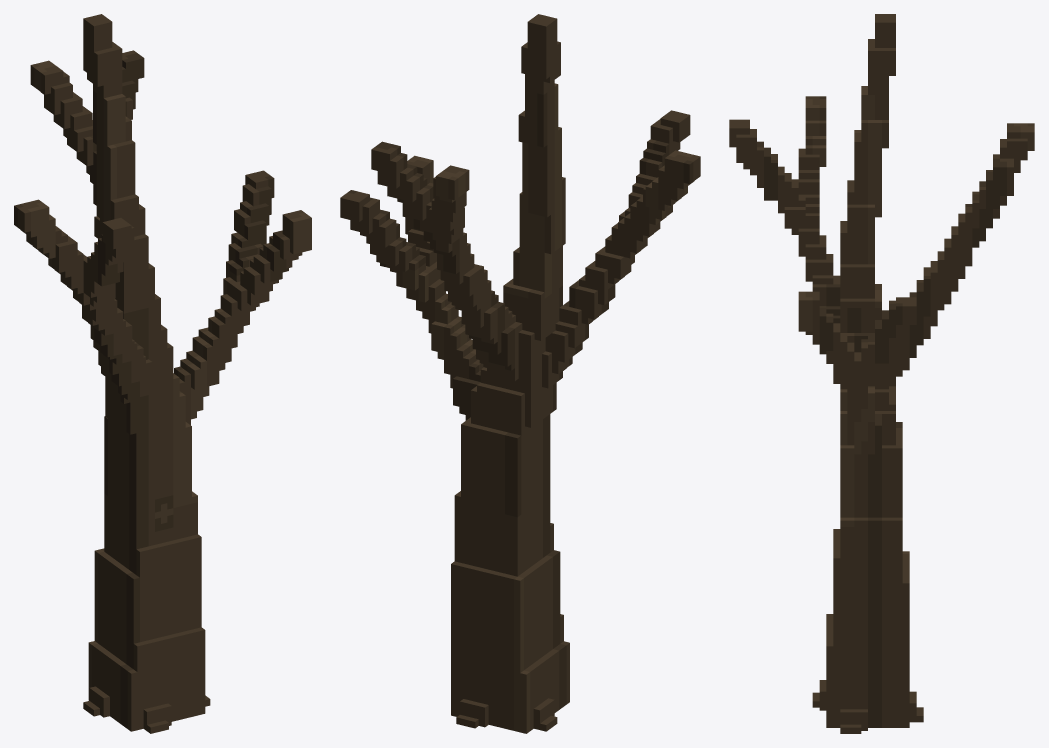
Rendered from oak_sapling_winter.glb.
The picture shows the model from 3 angles, left to right: view 1: azimuth 30°, elevation 25°; view 2: azimuth 150°, elevation 25°; view 3: azimuth 270°, elevation 25°; orthographic projection. The views are drawn at different scales.
Visible parts, largest first — view 1: VoxelVisual; view 2: VoxelVisual; view 3: VoxelVisual.
Part boxes in pixels (x1,y1,x2,y2): VoxelVisual: (14,14,311,733); VoxelVisual: (340,14,700,733); VoxelVisual: (729,14,1034,733).
Size of what is drawn, in the model's own units: 3 by 6.69 by 2.75.
